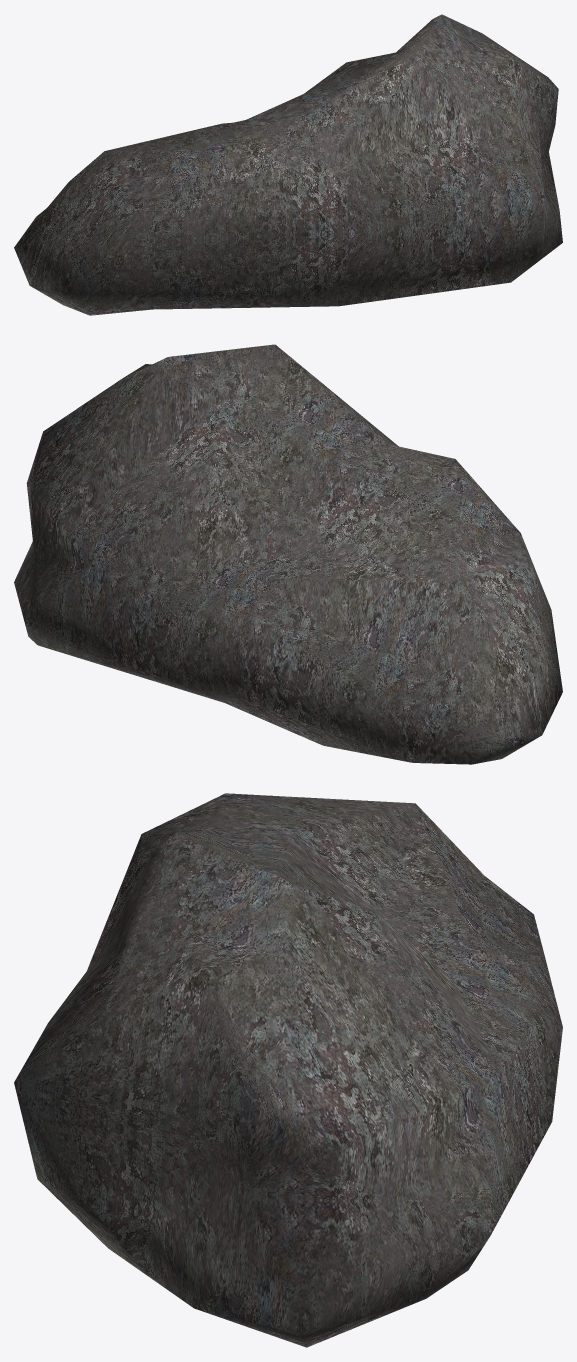
Rendered from rock_volcanorocka_l1.fbx.
3 renders of one model, top to bottom at view 1: azimuth 30°, elevation 25°; view 2: azimuth 150°, elevation 25°; view 3: azimuth 270°, elevation 25°, orthographic. The views are drawn at different scales.
Parts seen in each view (by area): view 1: mesh_node; view 2: mesh_node; view 3: mesh_node.
Part boxes in pixels (<box>): mesh_node: <box>14,14,562,315</box>; mesh_node: <box>14,344,562,764</box>; mesh_node: <box>14,793,562,1347</box>.
Size of the model in its own units: 18.39 by 9.72 by 11.61.
1 material, 1 textured.
